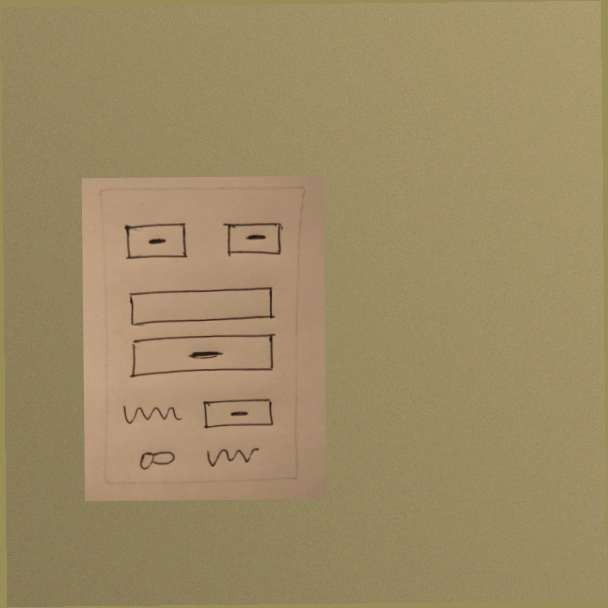button: (127, 332, 279, 380), (122, 219, 190, 265), (199, 396, 279, 434), (220, 217, 286, 261)
switch: (133, 447, 180, 476)
text: (120, 397, 183, 428), (200, 442, 264, 472)
text_input: (125, 284, 279, 325)
